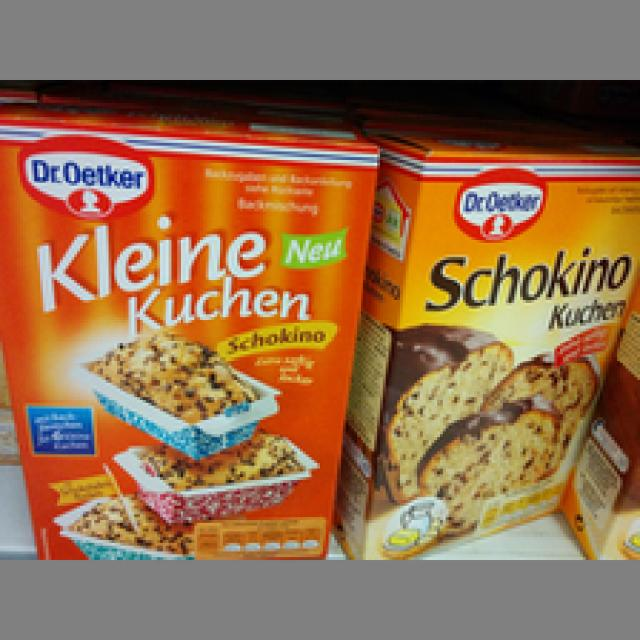groceries: (3, 117, 377, 554), (354, 117, 623, 563)
